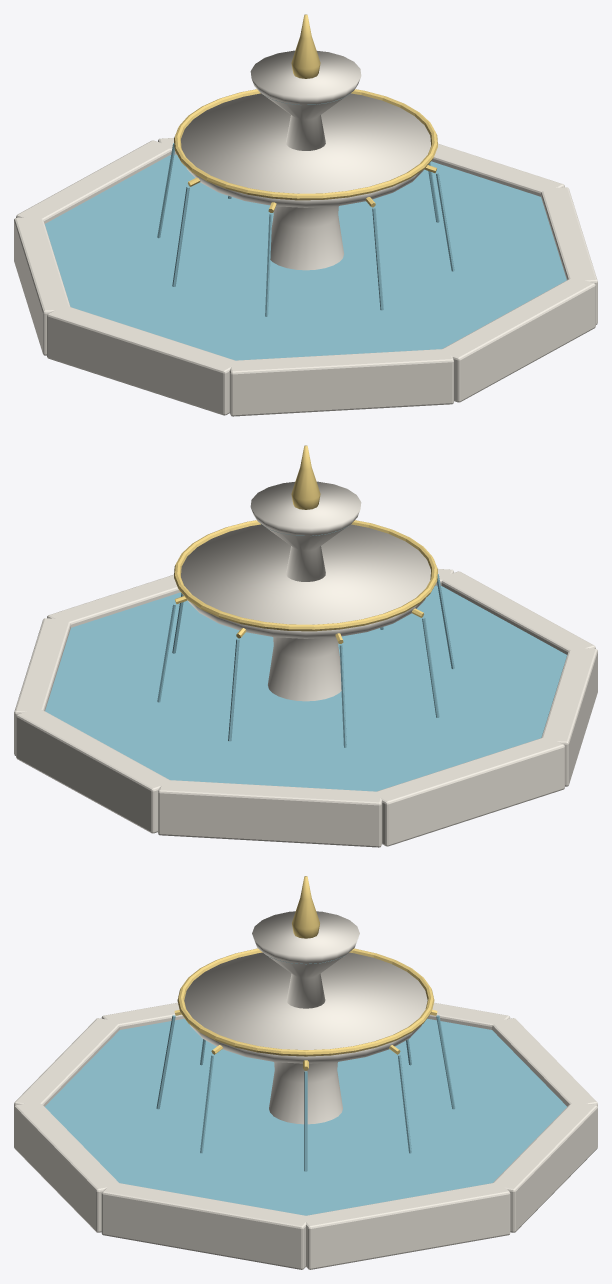
The model's file is palace_fountain.glb.
3 renders of one model, top to bottom at view 1: azimuth 30°, elevation 25°; view 2: azimuth 150°, elevation 25°; view 3: azimuth 270°, elevation 25°, orthographic. The views are drawn at different scales.
Visible parts, largest first — view 1: palace_fountain; view 2: palace_fountain; view 3: palace_fountain.
Part boxes in pixels (left/top/right/bottom): palace_fountain: left=14, top=14, right=597, bottom=416; palace_fountain: left=14, top=445, right=597, bottom=847; palace_fountain: left=14, top=876, right=597, bottom=1269.
Size of the model in its own units: 10.27 by 5.25 by 10.27.
